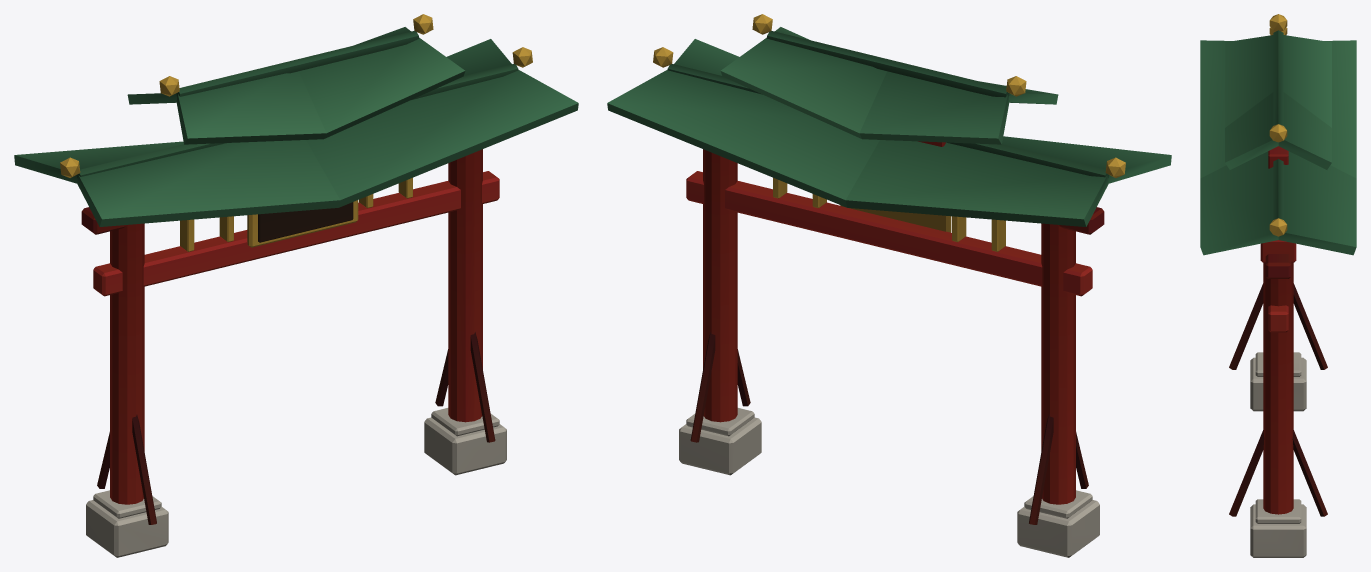
Rendered from tp_gate-ChzXMpho.glb.
3 views of the same model, side by side, from view 1: azimuth 30°, elevation 25°; view 2: azimuth 150°, elevation 25°; view 3: azimuth 270°, elevation 25° (orthographic). The views are drawn at different scales.
Size of the model in its own units: 9.61 by 8.75 by 3.06.
